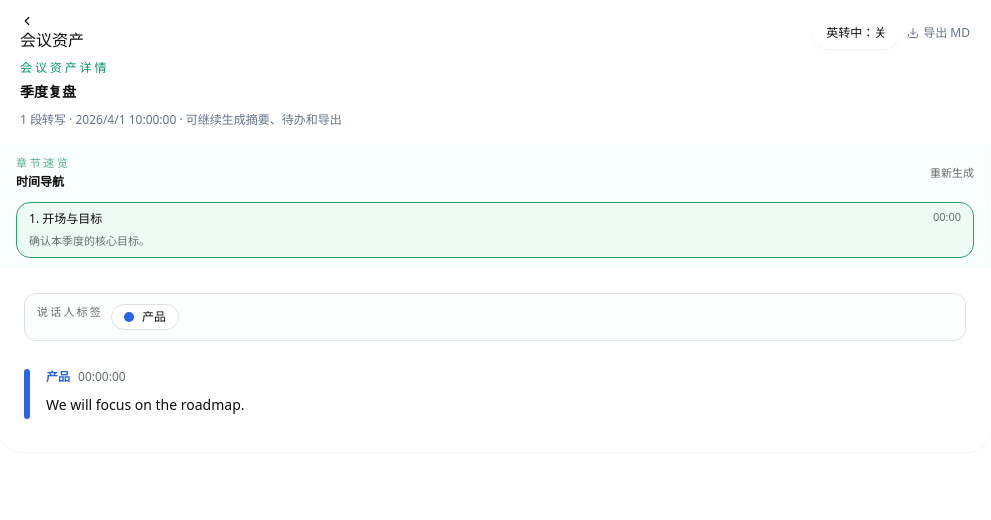
Scenario: MeetingDetailPage › shows translated transcript text alongside the original when the switch is enabled
The width and height of the screenshot is (991, 520).
Click the button "英转中：关": (856, 33) 813,17 -> 899,49
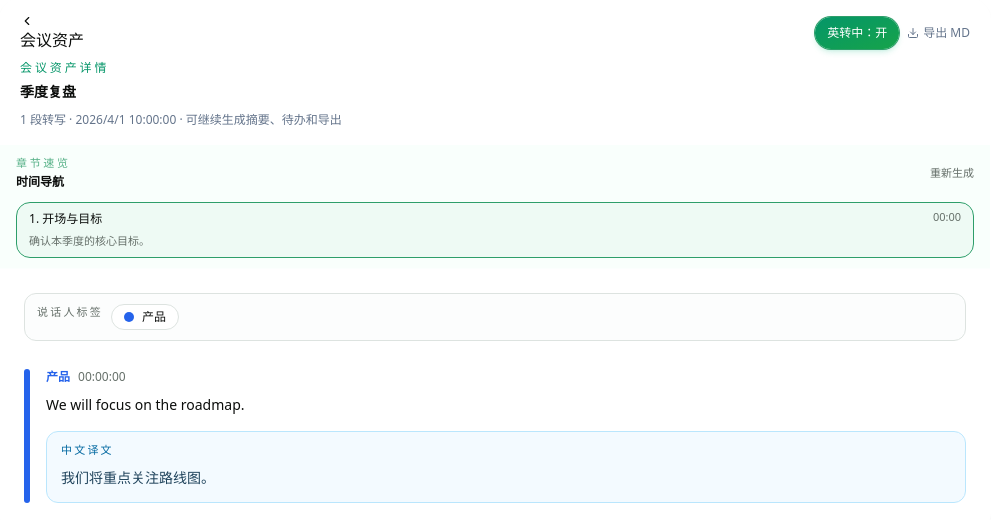
Expected: the text "We will focus on the roadmap." is shown, 46,394 -> 244,414
Result: the text "我们将重点关注路线图。" is shown at 61,468 -> 215,487
Result: the text "中文译文" is shown at 61,442 -> 114,456
